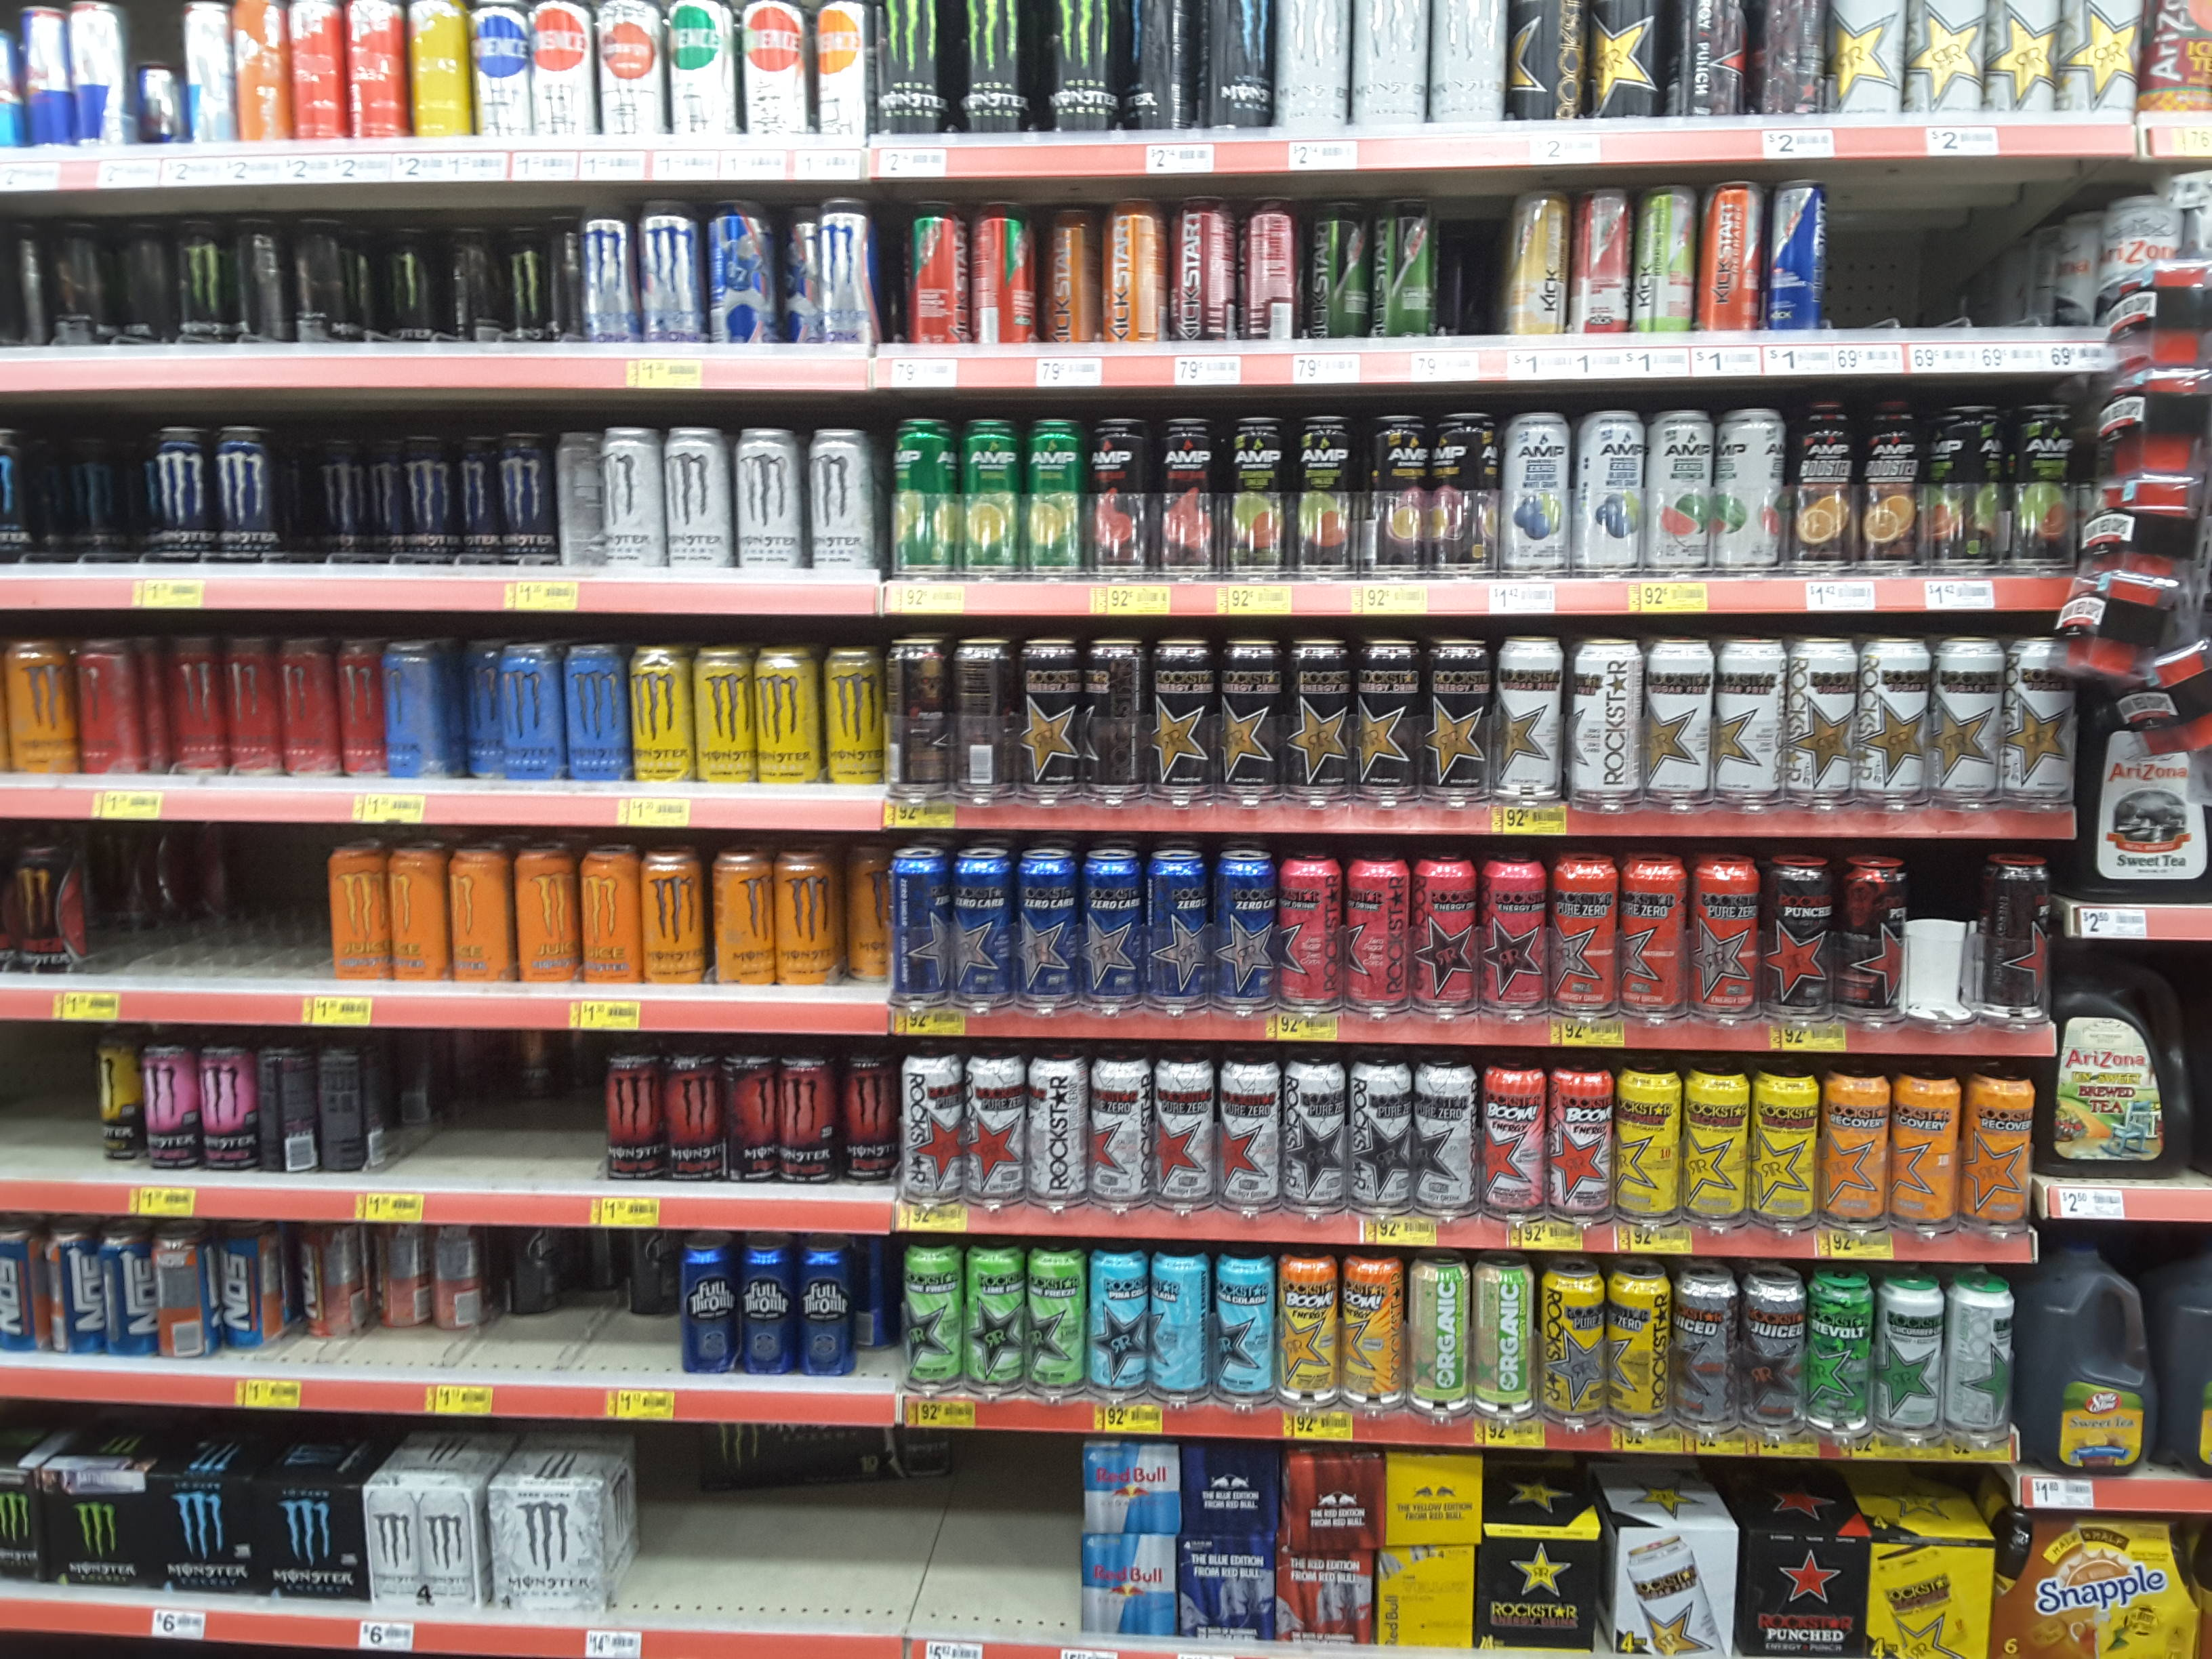Misplacement: (834, 850, 895, 993)
Out-of-stock: (958, 1441, 1082, 1631)
